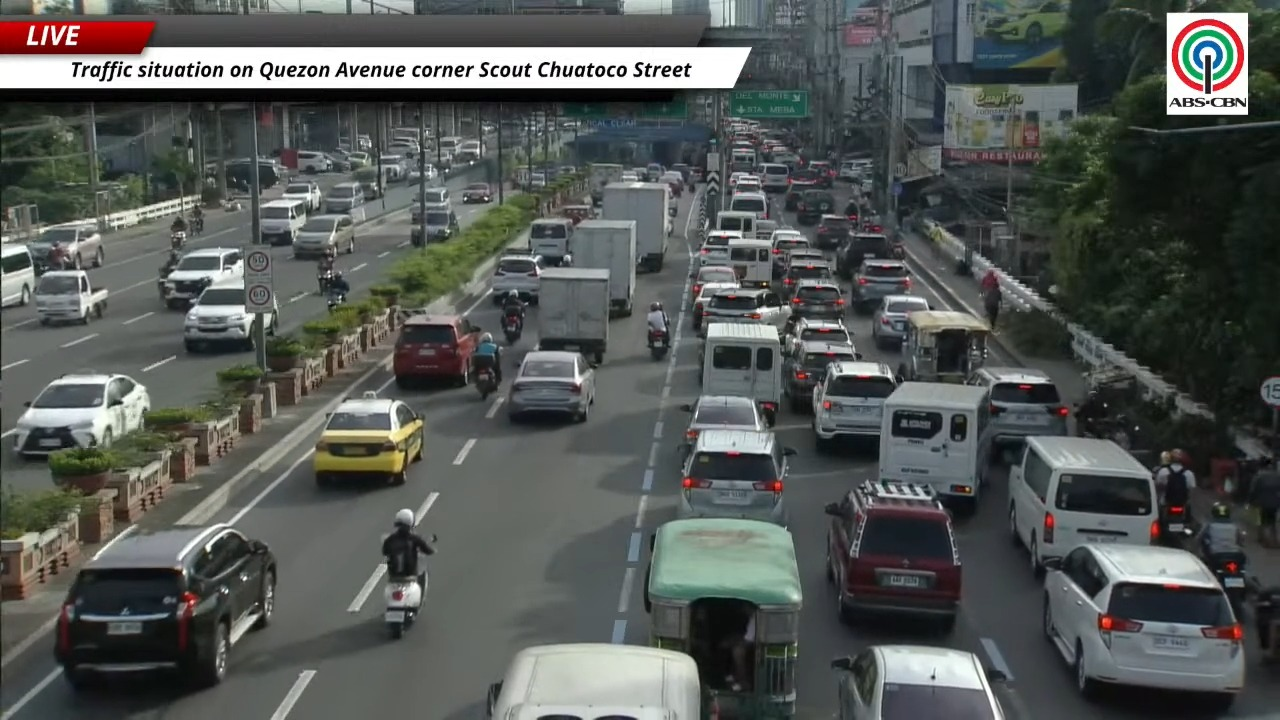car: (55, 524, 276, 690), (1043, 543, 1245, 711), (825, 480, 961, 632), (832, 645, 1007, 719), (677, 429, 795, 526), (13, 373, 150, 456), (313, 391, 424, 486), (966, 367, 1070, 445), (813, 361, 898, 450), (392, 313, 480, 388), (506, 350, 595, 422), (784, 341, 861, 413), (183, 277, 255, 352), (163, 247, 243, 308), (681, 395, 767, 448), (699, 288, 790, 334), (983, 0, 1067, 46), (27, 223, 104, 268), (851, 259, 911, 310), (871, 295, 929, 347), (292, 214, 354, 258), (491, 253, 544, 304), (690, 278, 739, 331), (837, 231, 892, 277), (785, 316, 852, 353), (790, 279, 845, 319), (782, 257, 834, 297), (410, 203, 459, 245), (770, 228, 810, 276), (771, 229, 810, 278), (690, 265, 739, 300), (697, 230, 742, 266), (814, 214, 854, 249), (796, 189, 835, 224), (282, 180, 323, 212), (324, 183, 365, 213), (784, 247, 826, 274), (783, 178, 814, 211), (296, 150, 332, 173), (807, 161, 835, 188), (837, 160, 869, 181), (462, 183, 493, 203), (407, 163, 437, 183), (358, 180, 384, 201), (422, 187, 450, 206), (733, 174, 762, 192), (327, 152, 353, 172), (346, 150, 370, 169), (728, 172, 751, 189), (620, 171, 639, 181)
motorcycle: (384, 571, 427, 638), (1205, 551, 1247, 616), (1077, 414, 1139, 449), (1160, 505, 1192, 547), (475, 368, 497, 400), (648, 329, 668, 359), (503, 313, 522, 343), (317, 266, 333, 293), (327, 291, 345, 312), (170, 231, 186, 249), (189, 215, 203, 235), (891, 243, 906, 261)
truck: (537, 267, 610, 363), (603, 182, 671, 272), (573, 220, 635, 316), (33, 271, 107, 325), (589, 163, 623, 206)
